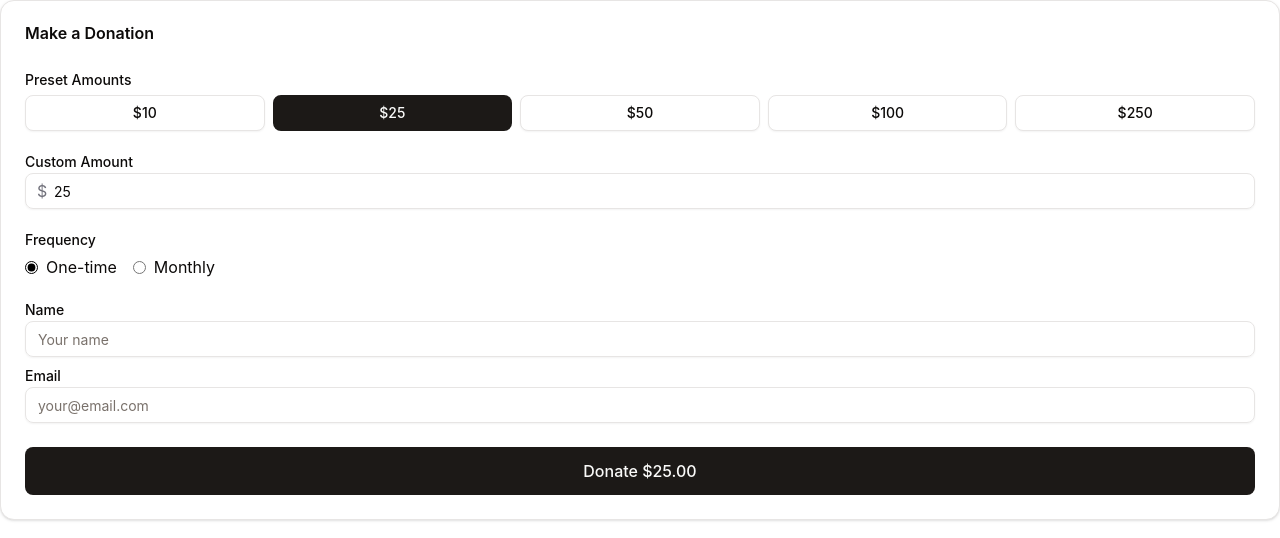
Test: DonationForm › selects preset amount on click
The image size is (1280, 538).
What coordinates should you click on to do the following:
click the button "$50"
I would click on:
 (640, 113)
Its box is top-left (520, 95), bottom-right (760, 131).
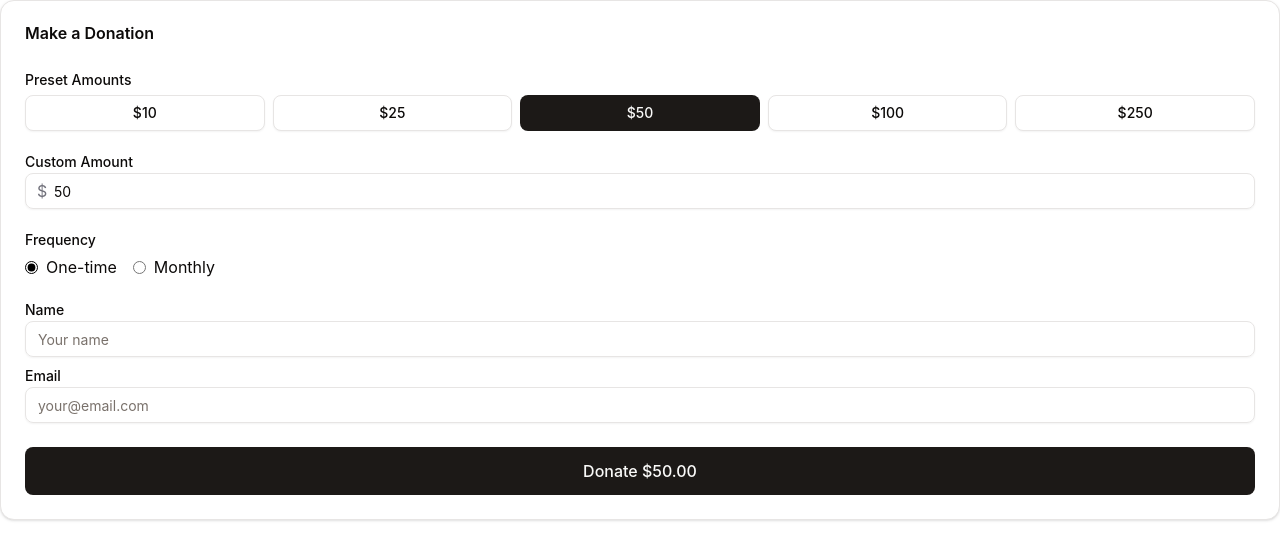
Expected: the number field labelled "Custom Amount" holds "50", top-left (25, 173), bottom-right (1255, 209)
